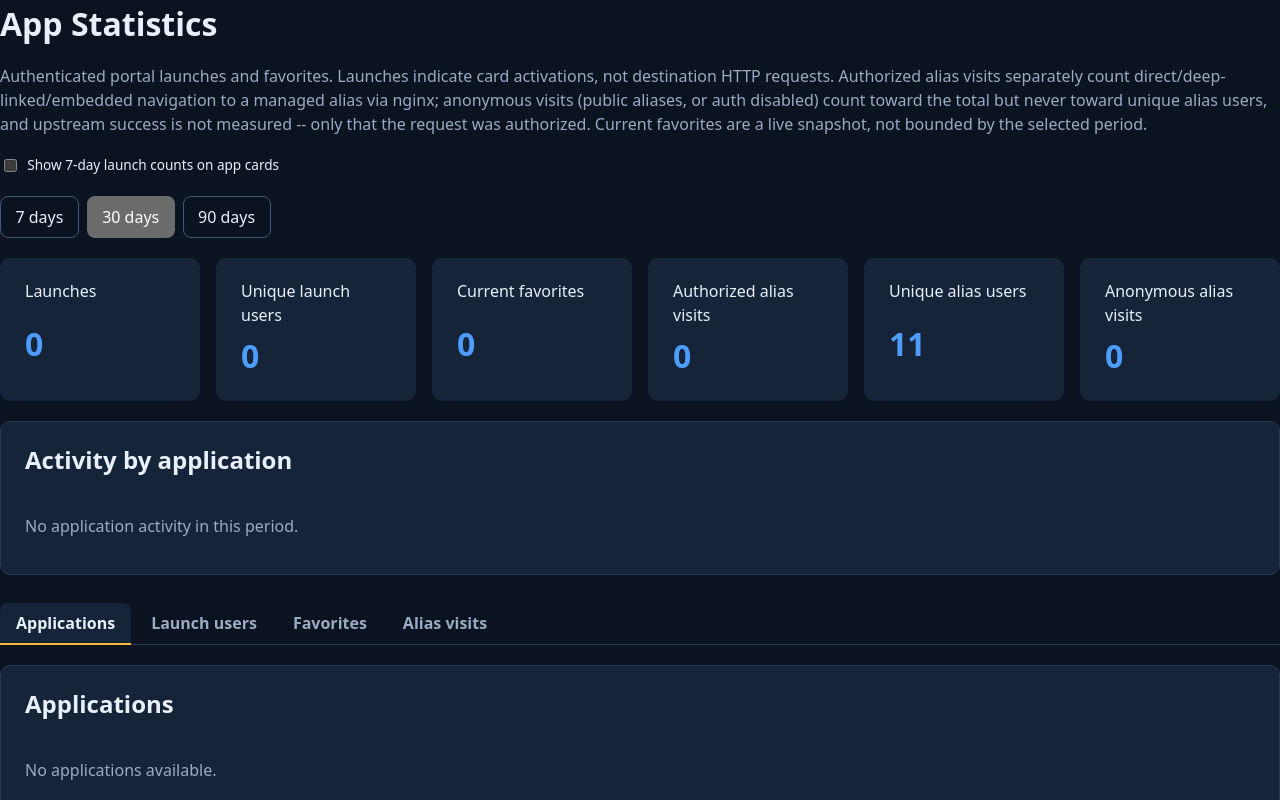
Test: AppStatisticsView › paginates alias users at 10 per page
Expected: the text "Authorized alias visits" is shown, [673, 280, 794, 326]
What coordinates should you click on to do the following:
click the button "Alias visits"
I would click on:
 (445, 624)
Its box is [387, 603, 503, 645].
(page scrolled)
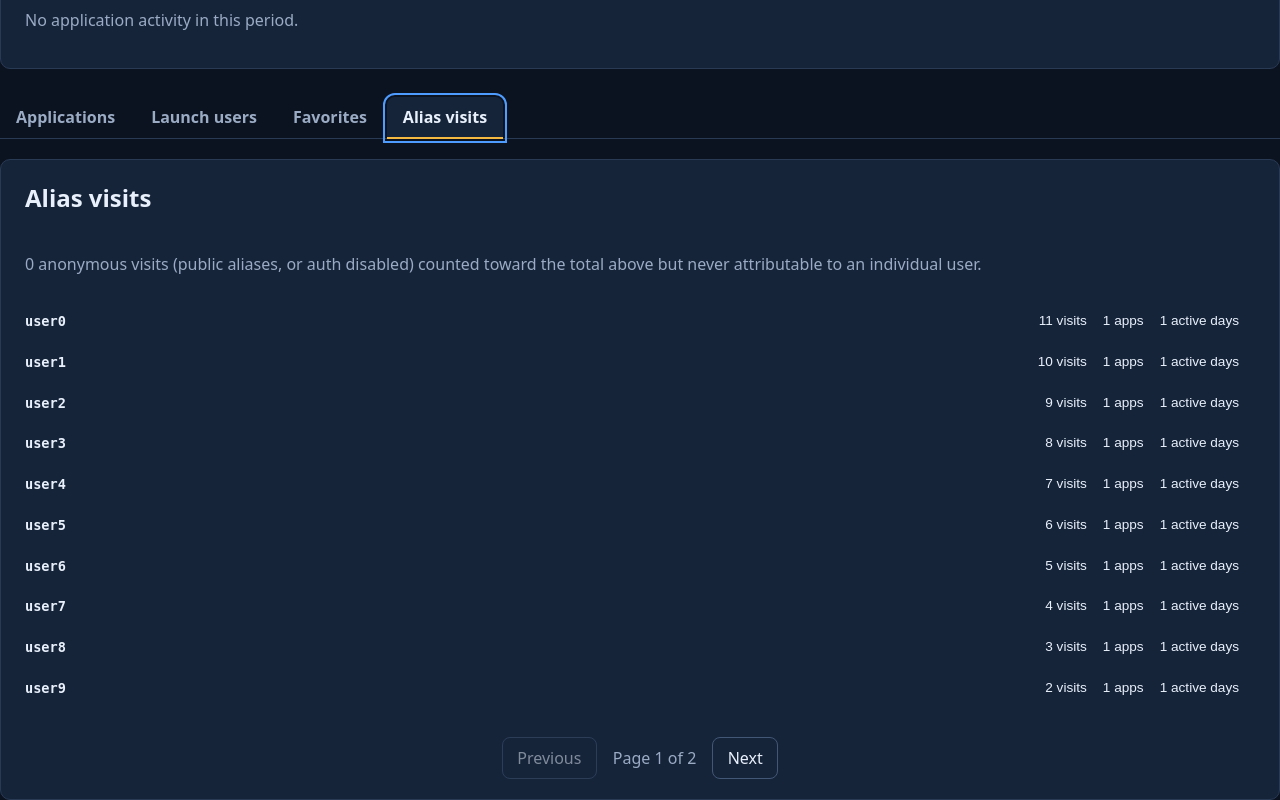
Expected: the text "user10" is not shown
Expected: the text "user0" is shown, [25, 313, 66, 329]
Expected: the text "Page 1 of 2" is shown, [613, 746, 696, 770]
What coordinates should you click on to do the following:
click the button "Next"
I would click on:
 (745, 758)
Its box is [712, 737, 778, 779].
(page scrolled)
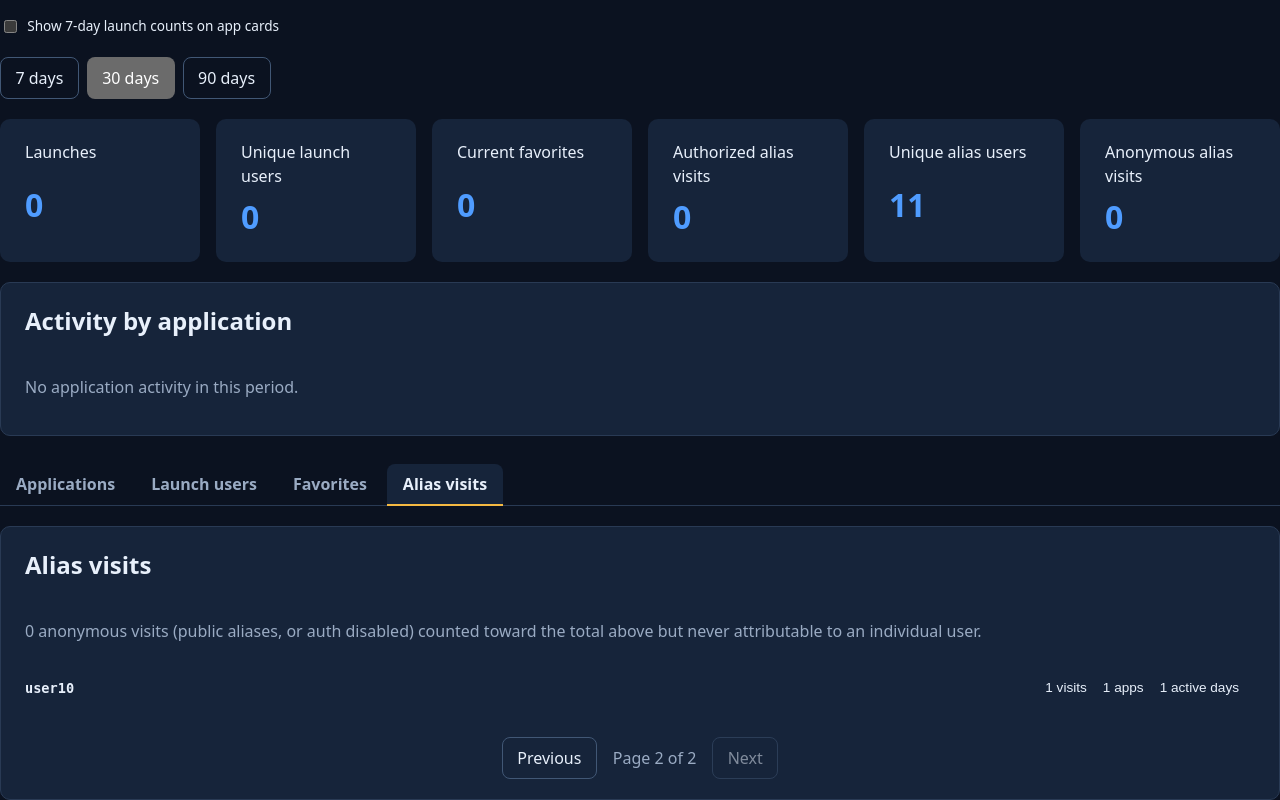
Expected: the text "user10" is shown, [25, 680, 74, 696]
Expected: the button "user0" is gone
